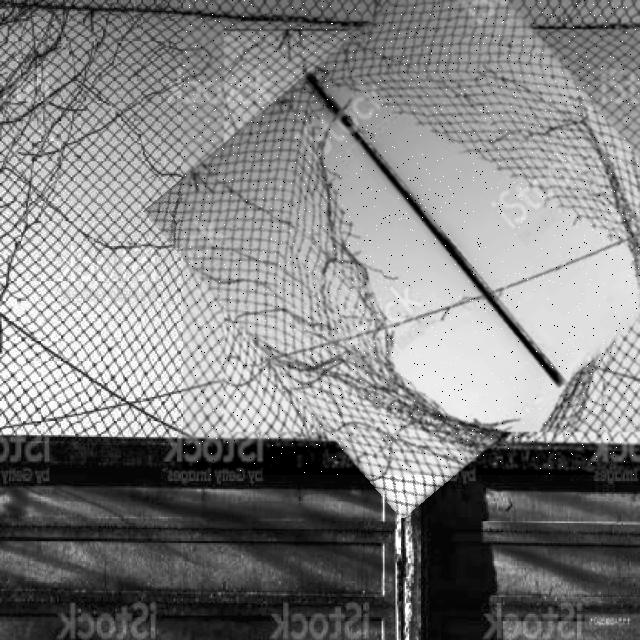anomaly-fence: (183, 0, 640, 475)
